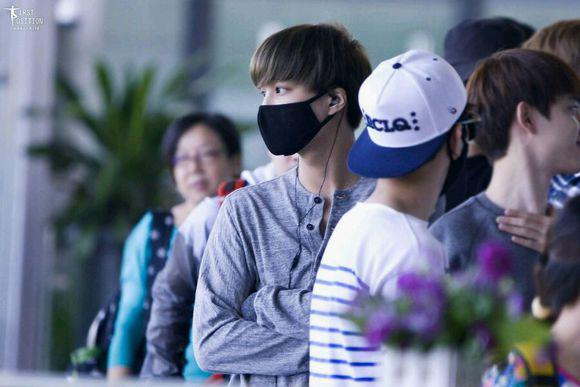NONE: (171, 145, 229, 197)
OK: (257, 81, 324, 148)
